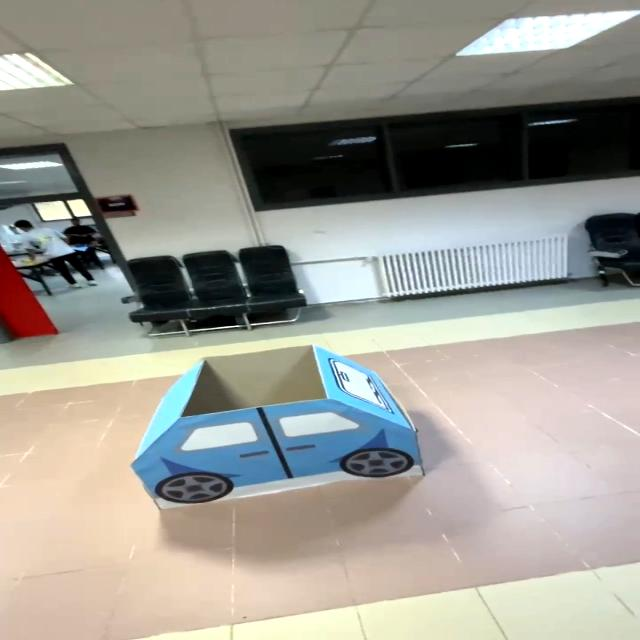blue_car: (53, 335, 484, 566)
